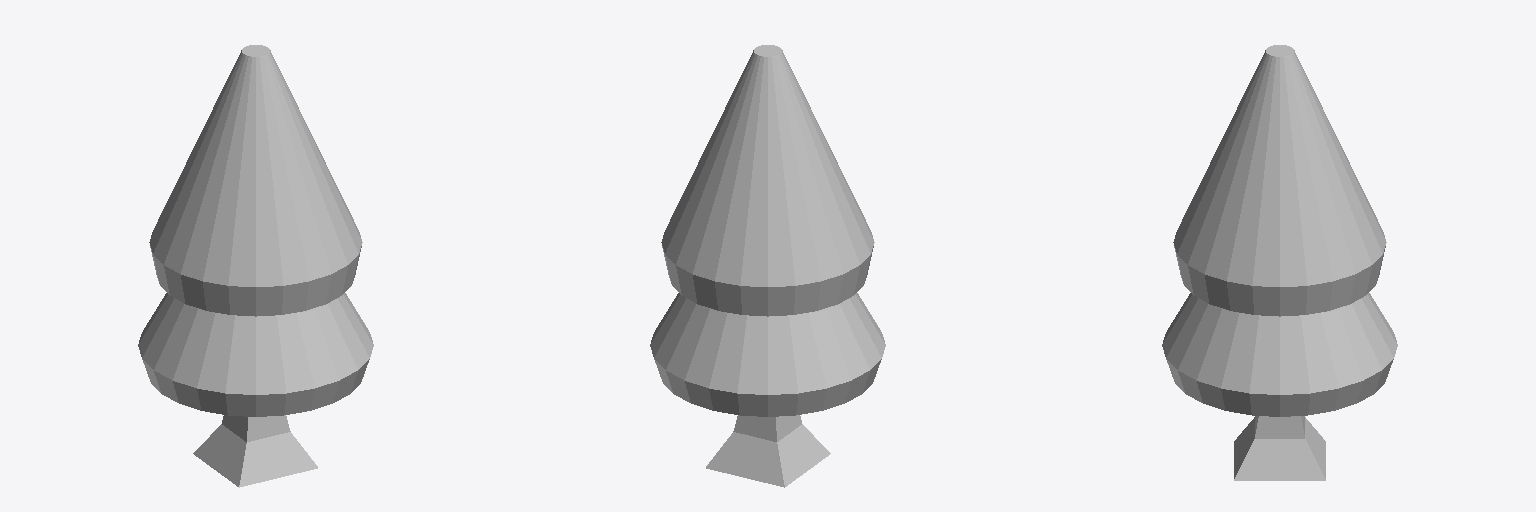
The model's file is treePineSmall.obj.
3 views of the same model, side by side, from view 1: azimuth 30°, elevation 25°; view 2: azimuth 150°, elevation 25°; view 3: azimuth 270°, elevation 25° (orthographic).
Visible parts, largest first — view 1: treePineSmall; view 2: treePineSmall; view 3: treePineSmall.
Boxes of the visible parts, x1=… form: treePineSmall: x1=138, y1=45, x2=373, y2=487; treePineSmall: x1=650, y1=45, x2=885, y2=487; treePineSmall: x1=1162, y1=45, x2=1397, y2=480.
Size of the model in its own units: 0.7114 by 1.36 by 0.7114.